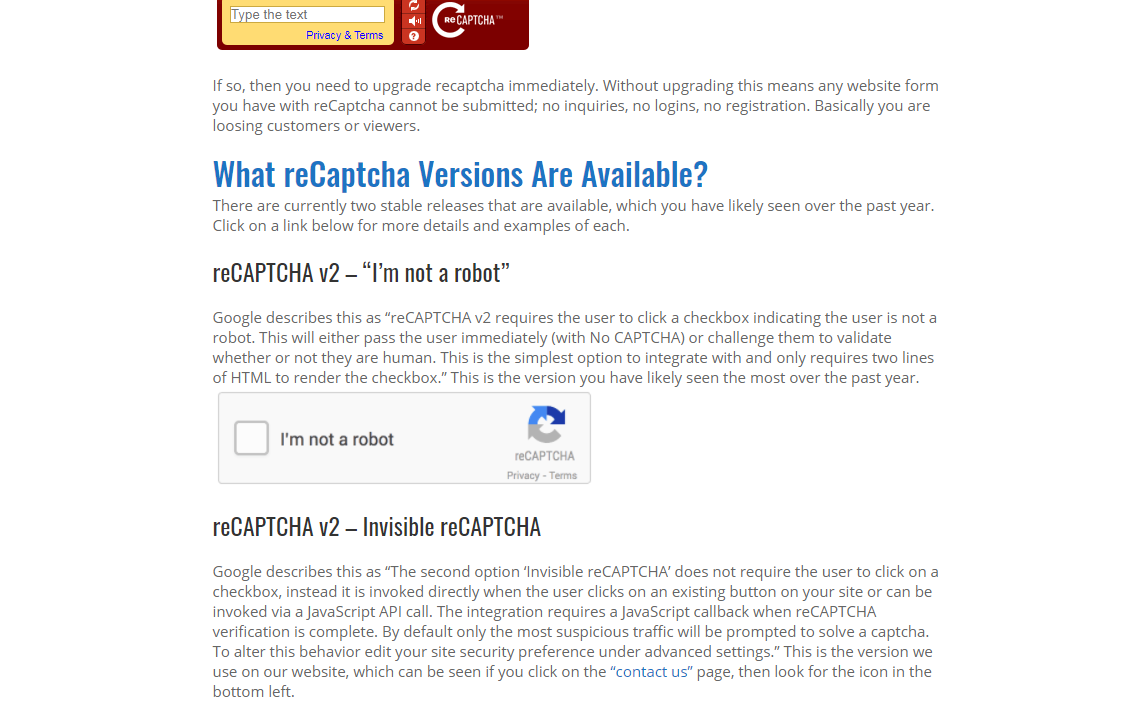captcha: (219, 392, 591, 483)
